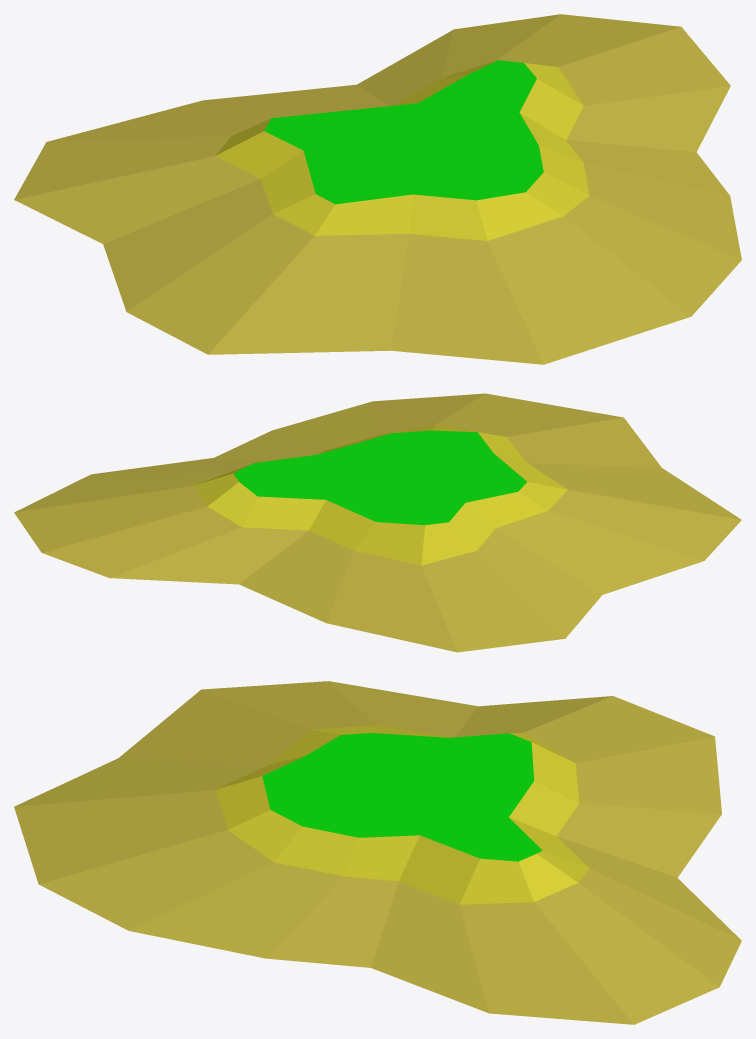
Rendered from island_2.fbx.
3 views of the same model, one above another, from view 1: azimuth 30°, elevation 25°; view 2: azimuth 150°, elevation 25°; view 3: azimuth 270°, elevation 25° (orthographic). The views are drawn at different scales.
Visible parts, largest first — view 1: Vert; view 2: Vert; view 3: Vert.
Boxes of the visible parts, <box> form: Vert: <box>14,14,741,364</box>; Vert: <box>14,393,741,652</box>; Vert: <box>14,681,741,1024</box>.
Size of the model in its own units: 8347 by 9327 by 742.
